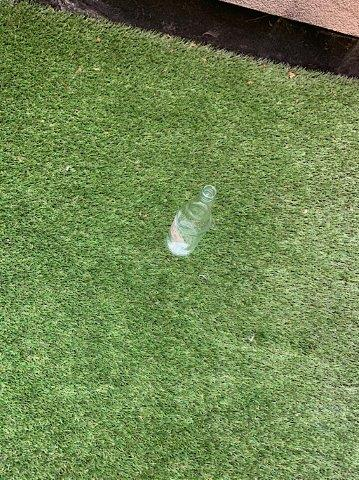botolkaca: (168, 186, 216, 256)
